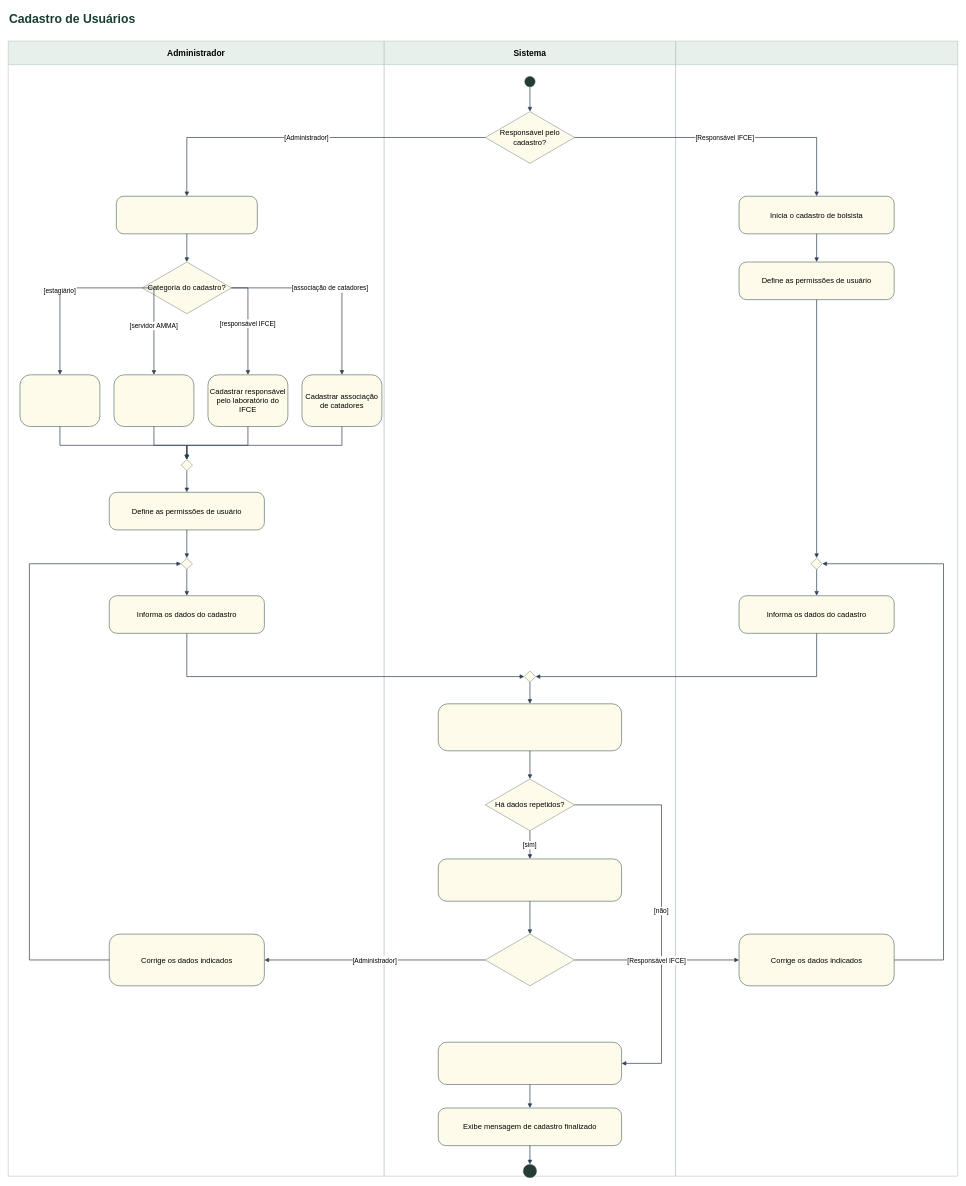
The diagram is 966 pixels wide and 1186 high, and some of its shapes have lost their labels. The box of each missing label's shape, as (x1, y1, x2, y2) in pixels:
Cadastrar estagiário: (19, 374, 100, 427)
Cadastrar servidor da AMMA: (113, 374, 194, 427)
Envia e-mail de confirmação para o endereço cadastrado: (438, 1042, 622, 1085)
Exibe mensagem de que já existe usuário com essas informações: (438, 858, 622, 901)
Inicia o cadastro de usuário: (116, 196, 257, 234)
Origem do cadastro?: (485, 934, 575, 986)
Responsável pelo laboratório do IFCE: (675, 41, 958, 1176)
Verifica se dados únicos, como CPF e matrícula, já estão cadastrados: (438, 703, 622, 751)
